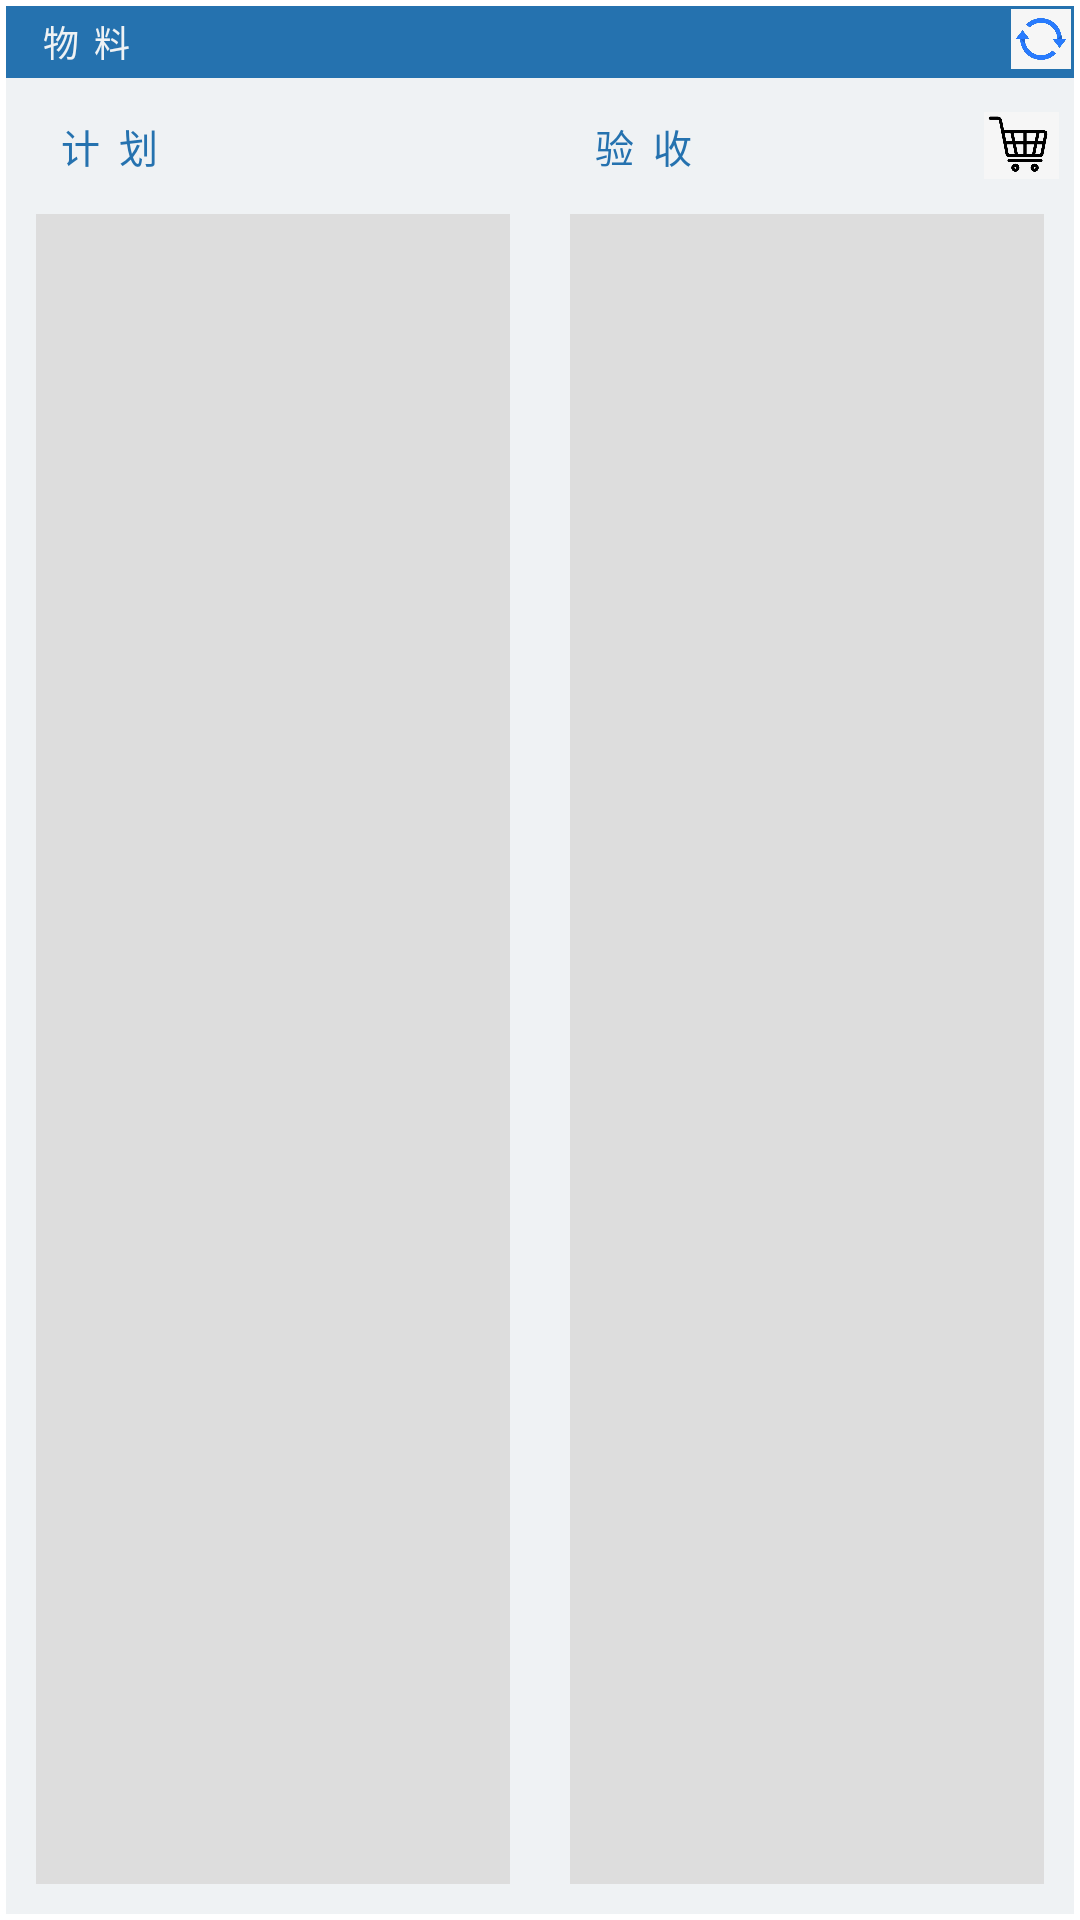

Named icons in this screenshot (1080w x 1920h) and their centers, point (x, y):
buy car: point (1018, 144)
